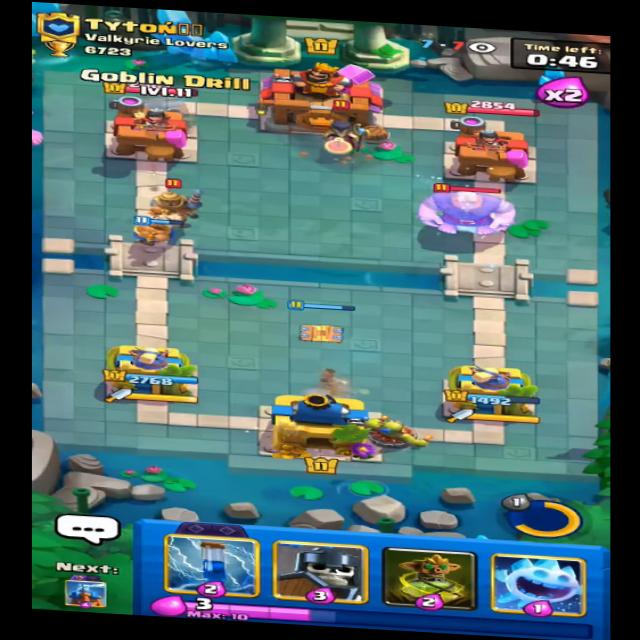giant: (412, 180, 522, 236)
night-witch: (319, 98, 368, 158)
prince: (144, 175, 200, 240)
